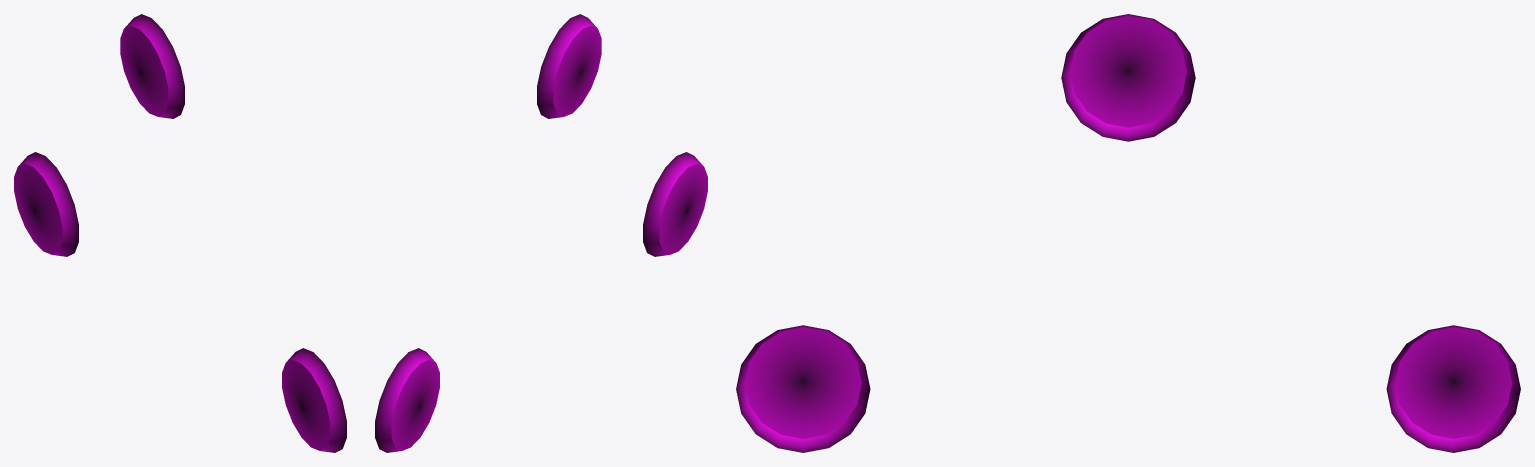
The model's file is ck_gearlights.fbx.
The picture shows the model from 3 angles, left to right: view 1: azimuth 30°, elevation 25°; view 2: azimuth 150°, elevation 25°; view 3: azimuth 270°, elevation 25°; orthographic projection. The views are drawn at different scales.
Parts seen in each view (by area): view 1: ck_gearlights; view 2: ck_gearlights; view 3: ck_gearlights.
Part boxes in pixels (left/top/right/bottom): ck_gearlights: left=14, top=14, right=346, bottom=452; ck_gearlights: left=375, top=14, right=707, bottom=452; ck_gearlights: left=736, top=14, right=1520, bottom=452.
Bounding box in the file's own units: 7.24 × 0.667 × 4.23.
